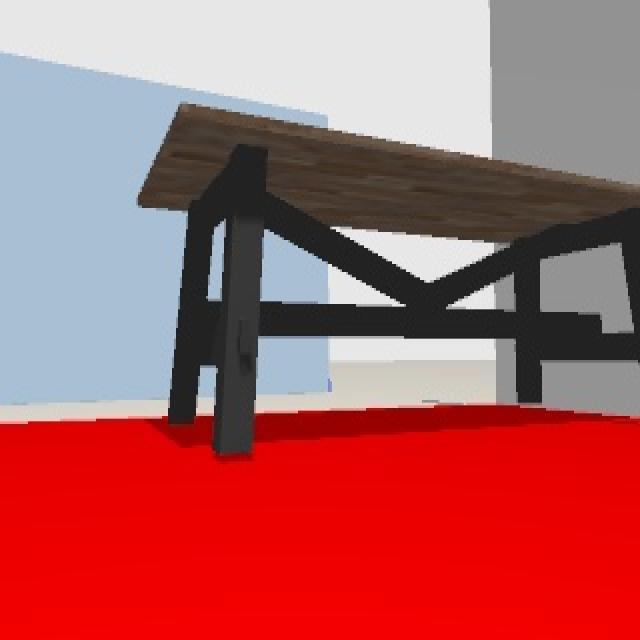dining: (136, 99, 640, 466)
